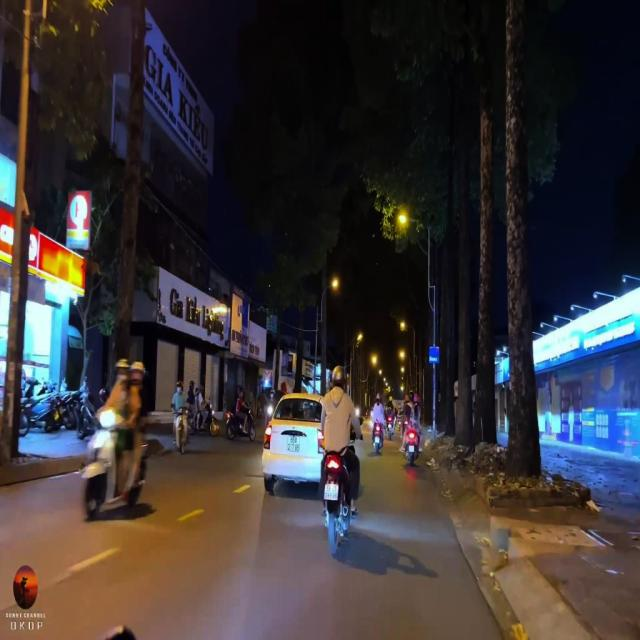khac: (429, 347, 439, 363)
